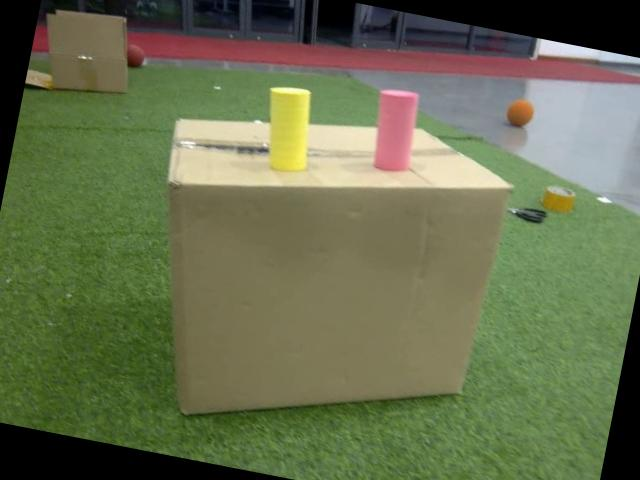orange_ball: (502, 94, 538, 130)
red_cylinder: (364, 82, 426, 176)
yellow_cylinder: (252, 81, 324, 175)
